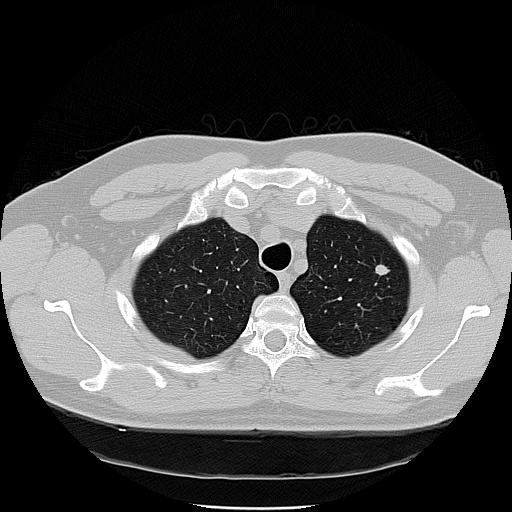nodule: (372, 260, 391, 279)
